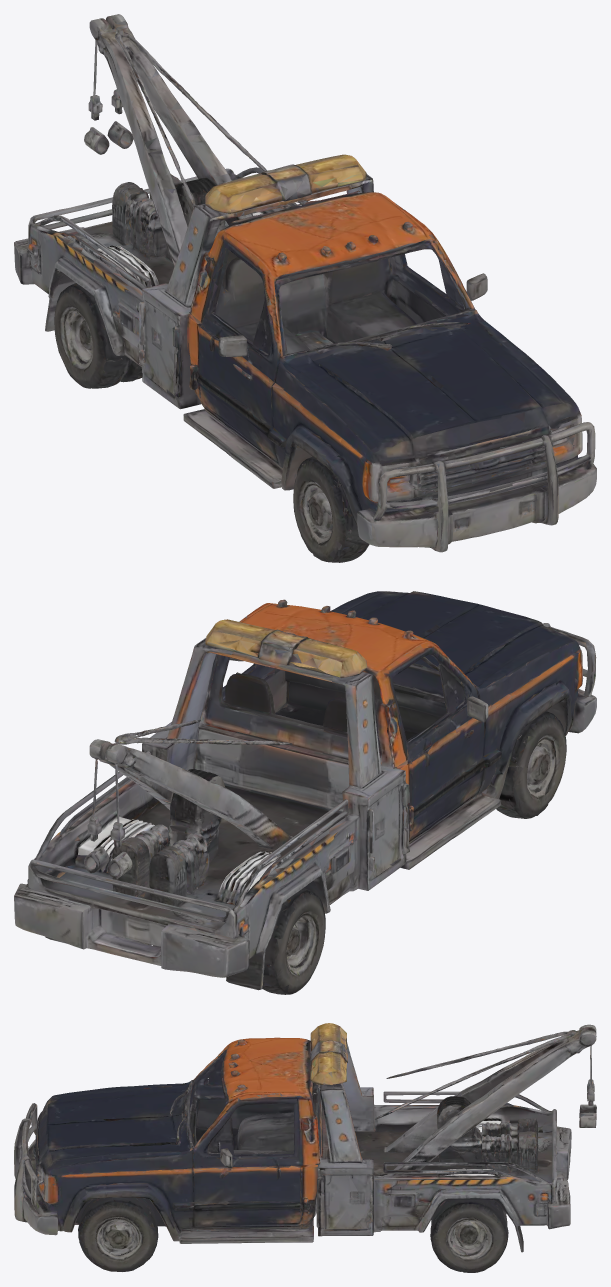
Rendered from car_tow.glb.
3 renders of one model, top to bottom at view 1: azimuth 30°, elevation 25°; view 2: azimuth 150°, elevation 25°; view 3: azimuth 270°, elevation 25°, orthographic. The views are drawn at different scales.
Parts seen in each view (by area): view 1: world; view 2: world; view 3: world.
Part boxes in pixels (x1=…): world: x1=14, y1=14, x2=596, y2=562; world: x1=14, y1=591, x2=596, y2=994; world: x1=14, y1=1023, x2=596, y2=1272.
Bounding box in the file's own units: 1.48 × 1.5 × 3.84.
Materials: 1 (1 with a texture image).
